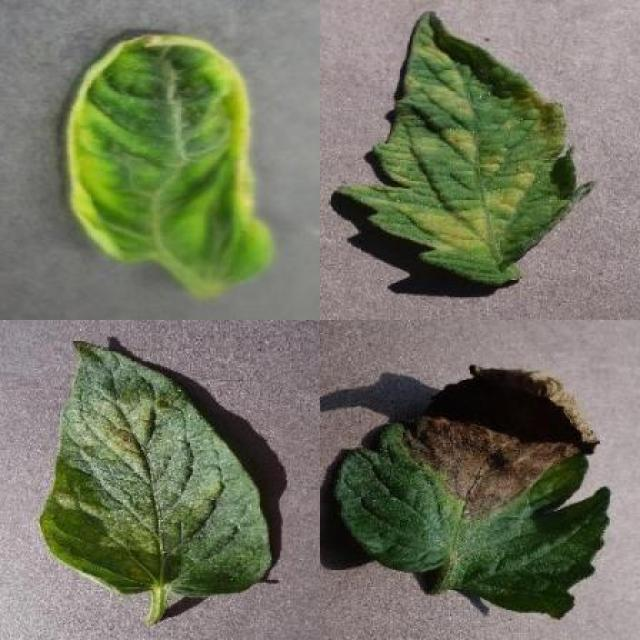Late Blight: (335, 362, 612, 622)
Leaf Mold: (335, 9, 598, 285)
Spider Mites: (40, 336, 274, 600)
Yellow Leaf Curl Virus: (62, 29, 275, 294)
